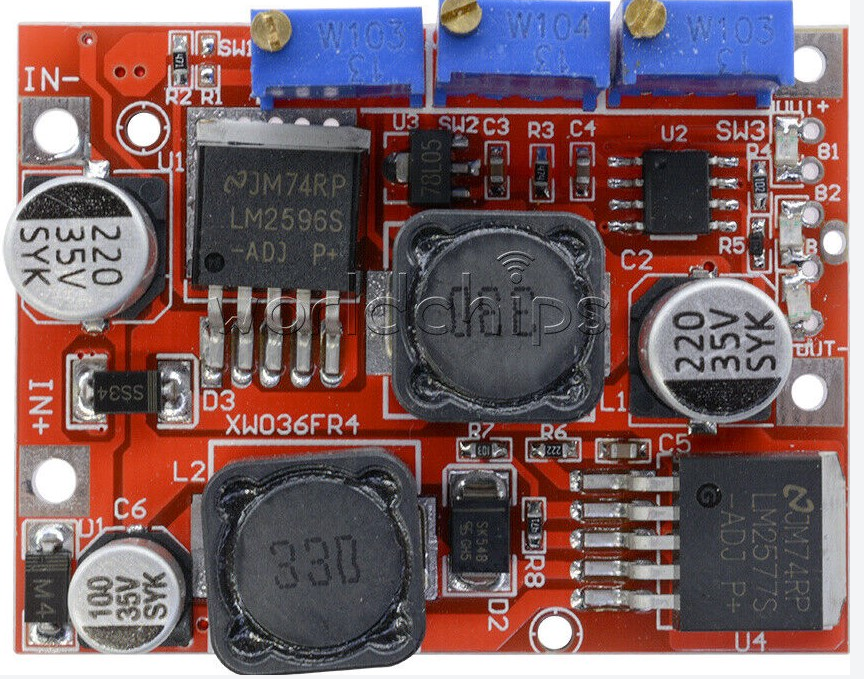Induktor: (205, 457, 427, 677), (392, 213, 603, 424)
